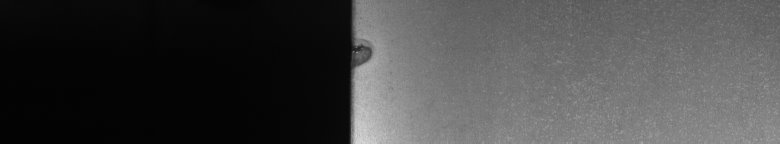hb: (360, 36, 379, 71)
